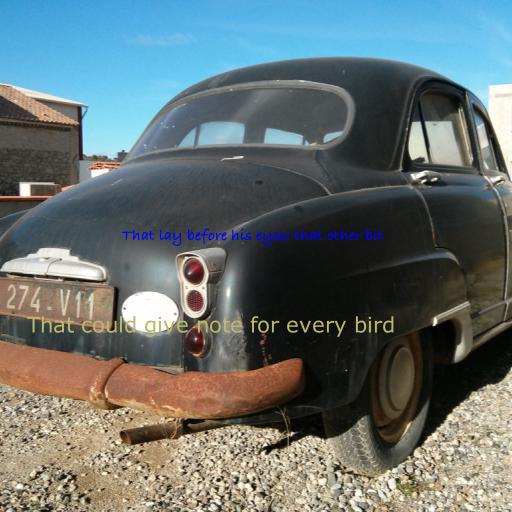Bradley Hand: (122, 228, 384, 246)
Verdana: (27, 316, 395, 337)
